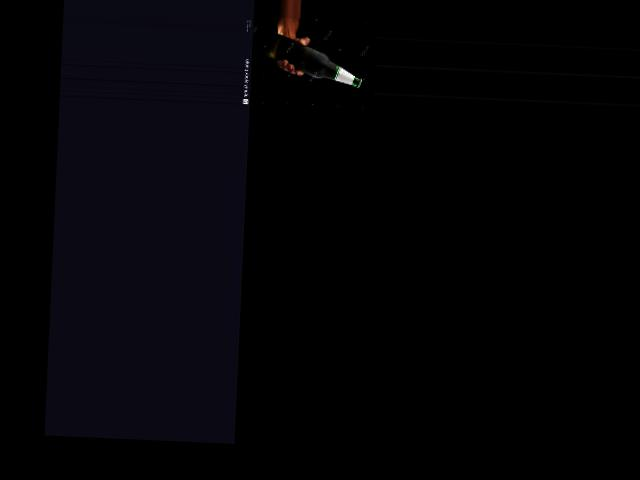beer: (263, 33, 364, 88)
